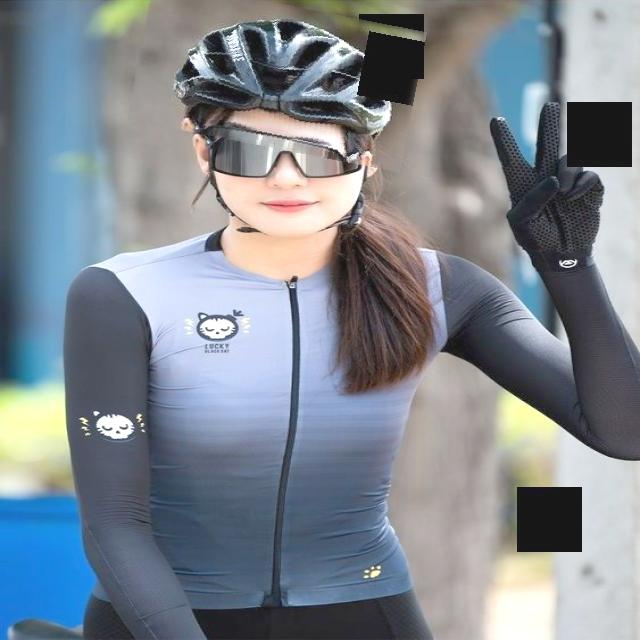helmet: (132, 0, 421, 159)
